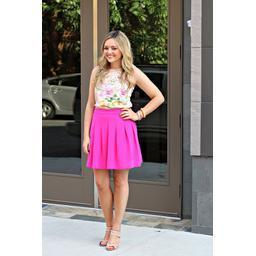Tshirt: (94, 64, 135, 112)
skirt: (86, 106, 142, 170)
